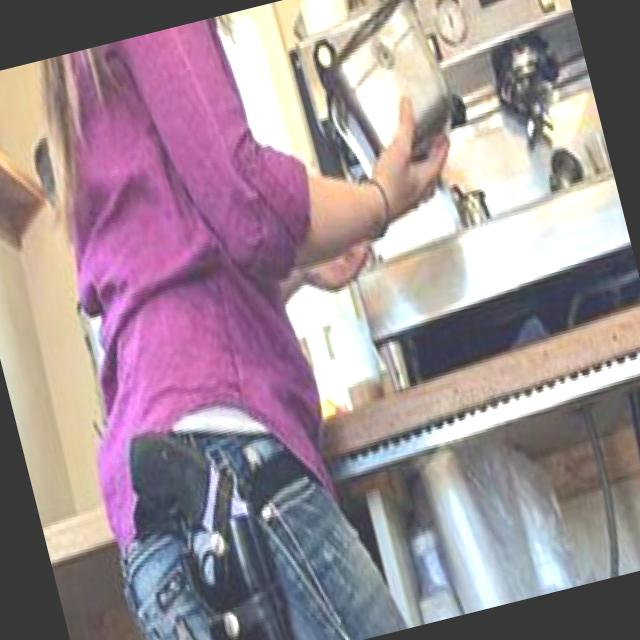handgun: (111, 406, 307, 639)
